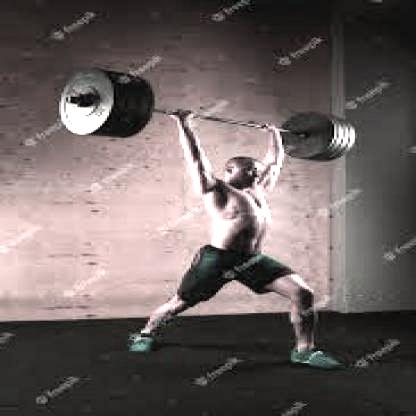Barbell: (62, 93, 75, 108)
